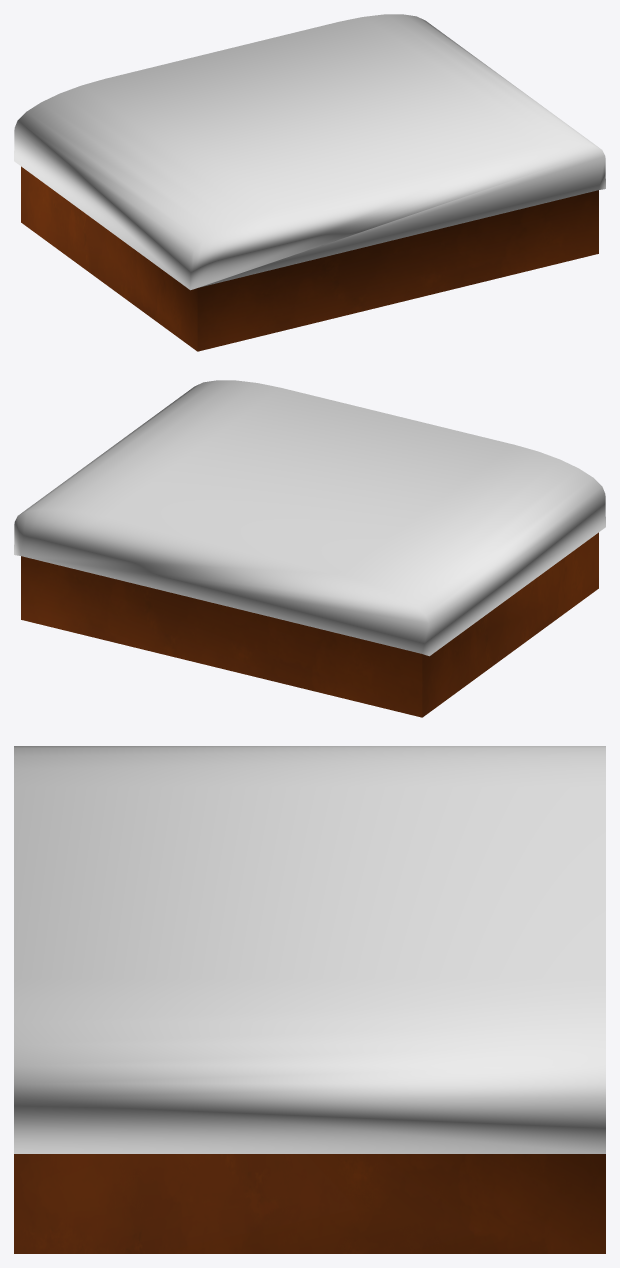
The model's file is grass wipfbx.fbx.
The picture shows the model from 3 angles, top to bottom: view 1: azimuth 30°, elevation 25°; view 2: azimuth 150°, elevation 25°; view 3: azimuth 270°, elevation 25°; orthographic projection. The views are drawn at different scales.
Parts seen in each view (by area): view 1: Cube.001; view 2: Cube.001; view 3: Cube.001.
Part boxes in pixels (x1=…): Cube.001: x1=14, y1=14, x2=605, y2=351; Cube.001: x1=14, y1=380, x2=605, y2=717; Cube.001: x1=14, y1=746, x2=605, y2=1253.
Size of the model in its own units: 12.26 by 3.47 by 9.02.
